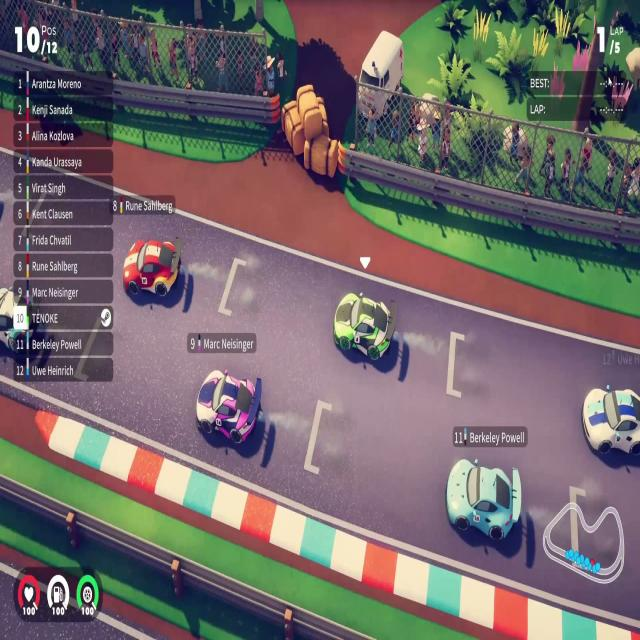car: (445, 457, 522, 543), (195, 368, 262, 446), (332, 290, 398, 362), (122, 235, 182, 298)
